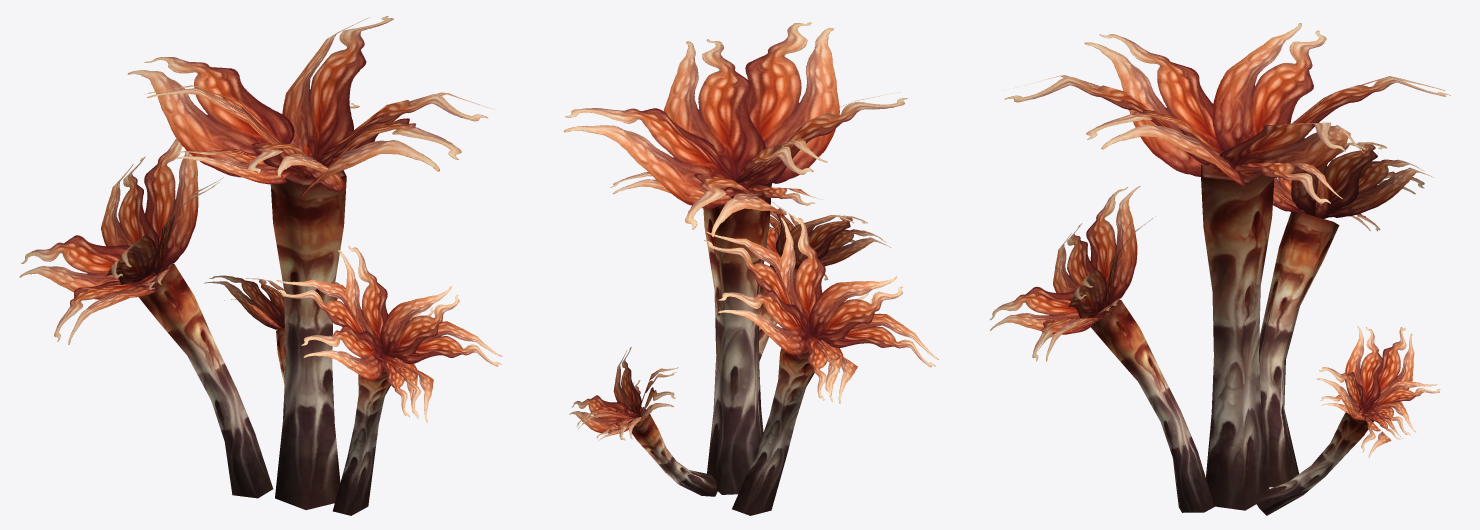
Rendered from borean_bush_02.obj.
3 renders of one model, left to right at view 1: azimuth 30°, elevation 25°; view 2: azimuth 150°, elevation 25°; view 3: azimuth 270°, elevation 25°, orthographic. The views are drawn at different scales.
Visible parts, largest first — view 1: borean_bush_02; view 2: borean_bush_02; view 3: borean_bush_02.
Part boxes in pixels (<box>): borean_bush_02: <box>19,16,502,515</box>; borean_bush_02: <box>564,22,938,515</box>; borean_bush_02: <box>990,23,1450,515</box>.
Size of the model in its own units: 0.9663 by 0.9796 by 1.
Materials: 1 (1 with a texture image).
